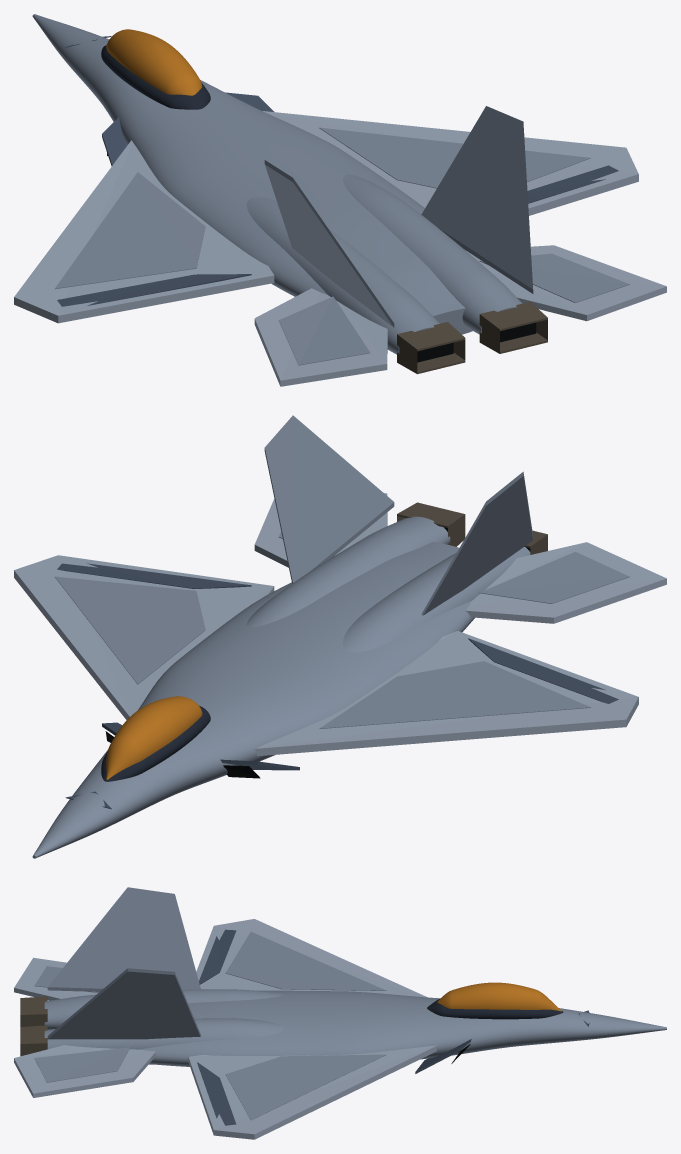
Rendered from airplane-f22.obj.
The picture shows the model from 3 angles, top to bottom: view 1: azimuth 30°, elevation 25°; view 2: azimuth 150°, elevation 25°; view 3: azimuth 270°, elevation 25°; orthographic projection. The views are drawn at different scales.
Parts seen in each view (by area): view 1: Blended_fuselage, Left_main_wing, Right_canted_vertical_stabilizer, Left_wing_inset, Right_main_wing, Right_engine_nacelle, Left_engine_nacelle, Left_horizontal_stabilizer, Right_wing_inset, Left_canted_vertical_stabilizer, Right_horizontal_stabilizer, Left_tail_inset (+10 smaller); view 2: Blended_fuselage, Left_main_wing, Right_canted_vertical_stabilizer, Right_main_wing, Left_wing_inset, Right_wing_inset, Left_horizontal_stabilizer, Right_engine_nacelle, Left_canted_vertical_stabilizer, Left_engine_nacelle, Amber_canopy, Left_tail_inset (+5 smaller); view 3: Blended_fuselage, Left_canted_vertical_stabilizer, Right_canted_vertical_stabilizer, Right_main_wing, Right_wing_inset, Left_wing_inset, Left_main_wing, Right_horizontal_stabilizer, Right_engine_nacelle, Amber_canopy, Right_tail_inset, Left_engine_nacelle (+6 smaller).
Part boxes in pixels (bbox=[...]): Blended_fuselage: bbox=[32, 14, 472, 334]; Left_main_wing: bbox=[14, 140, 274, 323]; Right_canted_vertical_stabilizer: bbox=[421, 106, 533, 293]; Left_wing_inset: bbox=[55, 172, 205, 289]; Right_main_wing: bbox=[262, 111, 638, 215]; Right_engine_nacelle: bbox=[343, 174, 522, 334]; Left_engine_nacelle: bbox=[246, 197, 439, 354]; Left_horizontal_stabilizer: bbox=[254, 288, 387, 386]; Right_wing_inset: bbox=[319, 127, 590, 188]; Left_canted_vertical_stabilizer: bbox=[264, 160, 394, 327]; Right_horizontal_stabilizer: bbox=[466, 245, 666, 321]; Left_tail_inset: bbox=[278, 296, 370, 365]; Blended_fuselage: bbox=[32, 541, 474, 858]; Left_main_wing: bbox=[255, 631, 638, 756]; Right_canted_vertical_stabilizer: bbox=[264, 415, 394, 583]; Right_main_wing: bbox=[14, 555, 274, 720]; Left_wing_inset: bbox=[319, 661, 590, 728]; Right_wing_inset: bbox=[55, 576, 205, 684]; Left_horizontal_stabilizer: bbox=[465, 542, 666, 623]; Right_engine_nacelle: bbox=[246, 516, 450, 627]; Left_canted_vertical_stabilizer: bbox=[421, 471, 533, 615]; Left_engine_nacelle: bbox=[343, 547, 530, 652]; Amber_canopy: bbox=[106, 696, 202, 779]; Left_tail_inset: bbox=[479, 551, 629, 603]; Blended_fuselage: bbox=[68, 990, 666, 1066]; Left_canted_vertical_stabilizer: bbox=[47, 887, 200, 991]; Right_canted_vertical_stabilizer: bbox=[47, 968, 201, 1039]; Right_main_wing: bbox=[188, 1045, 437, 1139]; Right_wing_inset: bbox=[225, 1054, 386, 1120]; Left_wing_inset: bbox=[225, 932, 386, 990]; Left_main_wing: bbox=[196, 919, 426, 997]; Right_horizontal_stabilizer: bbox=[14, 1045, 155, 1097]; Right_engine_nacelle: bbox=[44, 1018, 284, 1064]; Amber_canopy: bbox=[437, 982, 561, 1011]; Right_tail_inset: bbox=[34, 1047, 130, 1082]; Left_engine_nacelle: bbox=[44, 989, 283, 1029].
Size of the model in its own units: 13.5 by 3.59 by 17.29.
